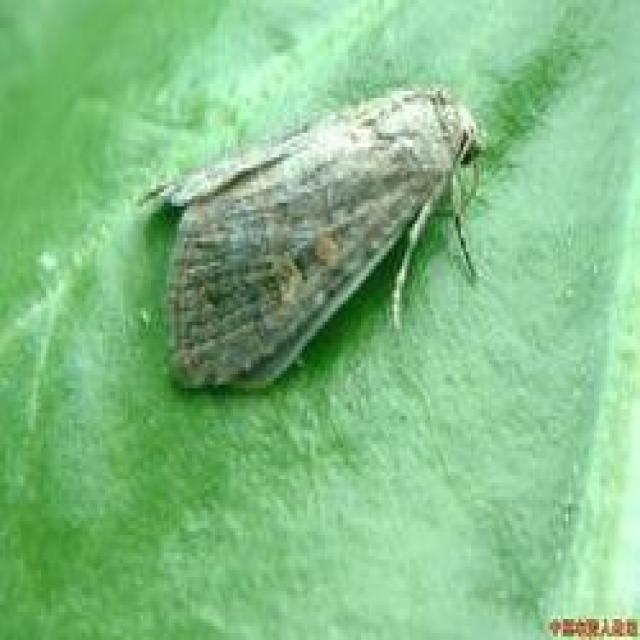BeetArmyWorm-Adult-: (132, 78, 499, 409)
